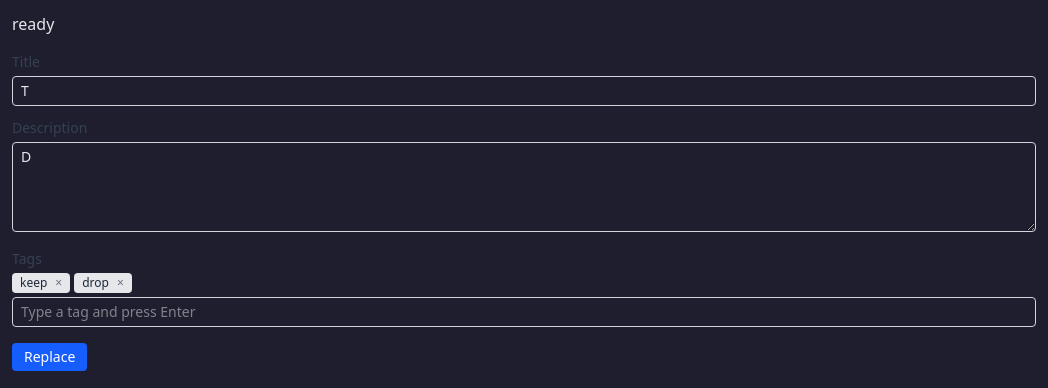
Test: VideoEditor › removes a tag via the remove-tag button
Click the button with test id "video-editor-tag-remove-drop".
click(120, 283)  # box [117, 275, 124, 291]
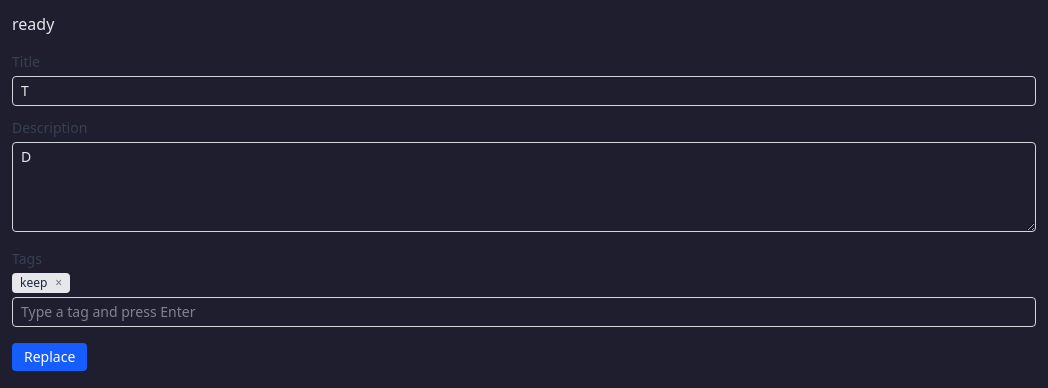
Expected: the text "keep" is shown, [20, 275, 47, 291]
Now the text "drop" is gone
